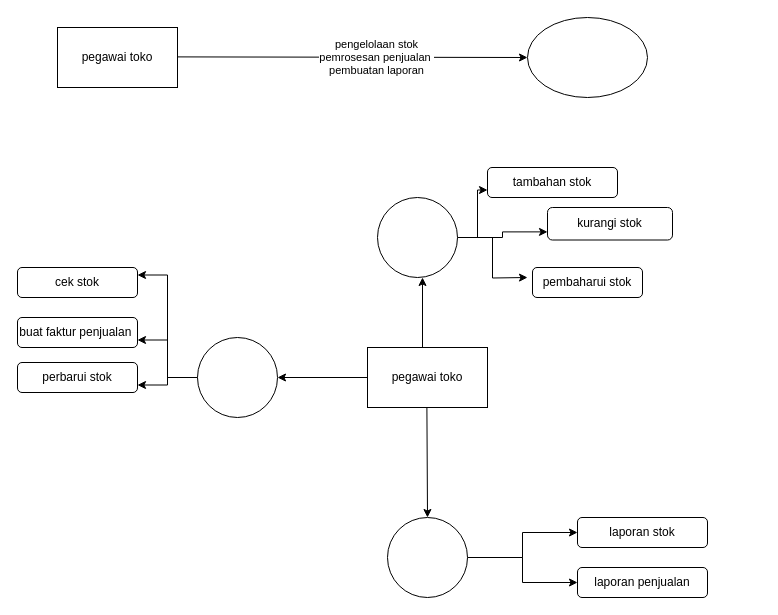
Some shapes in this 778 by 615 pixel diagram are drawn without their labels. The centre of each missing label's shape, as x and y in pixels:
pembuatan laporan: the point at 427,557
pemrosesan penjualan: the point at 237,377
pengelolaan stok: the point at 417,237
sistem manajemen inventaris: the point at 587,57
